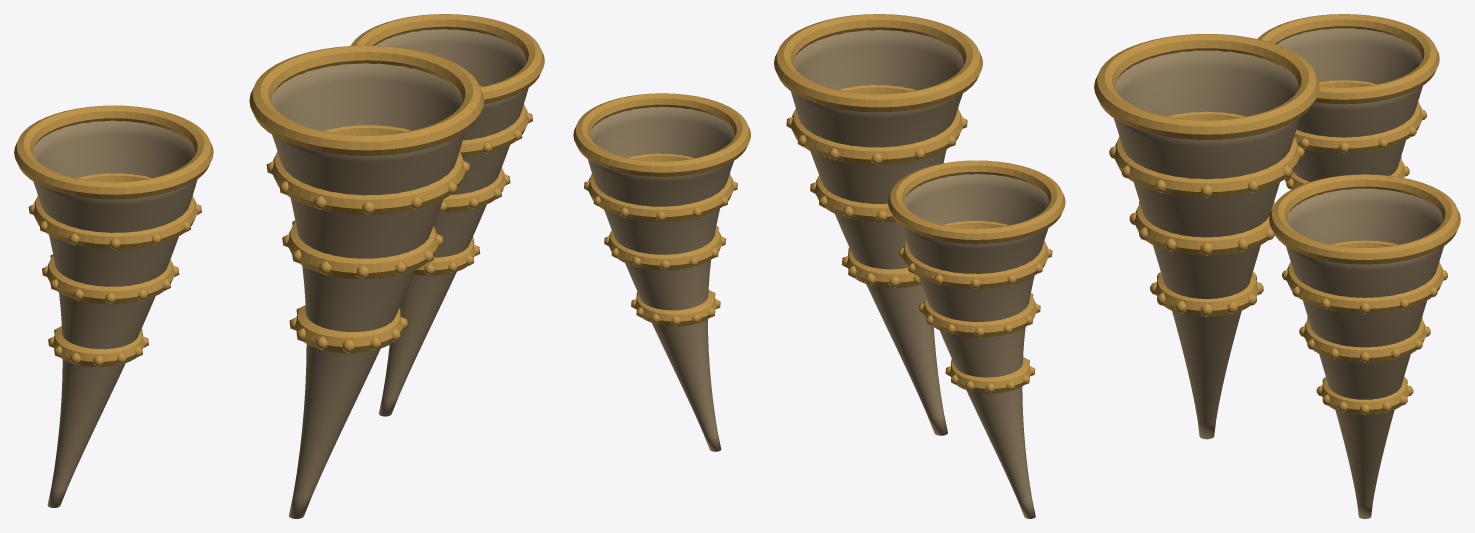
3 views of the same model, side by side, from view 1: azimuth 30°, elevation 25°; view 2: azimuth 150°, elevation 25°; view 3: azimuth 270°, elevation 25° (orthographic). The views are drawn at different scales.
Parts seen in each view (by area): view 1: TI040 / curving hollow horn shell.001, TI040 / curving hollow horn shell, TI040 / curving hollow horn shell.002, TI040 / decorative mouth rim.001, TI040 / decorative mouth rim, TI040 / decorative mouth rim.002, TI040 / gold ornamental band.005, TI040 / gold ornamental band.002, TI040 / gold ornamental band.004, TI040 / gold ornamental band.001, TI040 / gold ornamental band.003, TI040 / gold ornamental band (+3 smaller); view 2: TI040 / curving hollow horn shell.001, TI040 / curving hollow horn shell.002, TI040 / curving hollow horn shell, TI040 / decorative mouth rim.001, TI040 / decorative mouth rim, TI040 / decorative mouth rim.002, TI040 / gold ornamental band.005, TI040 / gold ornamental band.008, TI040 / gold ornamental band.002, TI040 / gold ornamental band.007, TI040 / gold ornamental band.001, TI040 / gold ornamental band.004 (+3 smaller); view 3: TI040 / curving hollow horn shell.001, TI040 / curving hollow horn shell.002, TI040 / curving hollow horn shell, TI040 / decorative mouth rim.001, TI040 / decorative mouth rim.002, TI040 / decorative mouth rim, TI040 / gold ornamental band.005, TI040 / gold ornamental band.008, TI040 / gold ornamental band.004, TI040 / gold ornamental band.002, TI040 / gold ornamental band.007, TI040 / gold ornamental band.003 (+1 smaller).
Boxes of the visible parts, x1=… form: TI040 / curving hollow horn shell.001: x1=271, y1=63, x2=464, y2=518; TI040 / curving hollow horn shell: x1=32, y1=120, x2=197, y2=507; TI040 / curving hollow horn shell.002: x1=375, y1=29, x2=528, y2=416; TI040 / decorative mouth rim.001: x1=249, y1=45, x2=484, y2=155; TI040 / decorative mouth rim: x1=14, y1=105, x2=213, y2=199; TI040 / decorative mouth rim.002: x1=350, y1=14, x2=544, y2=104; TI040 / gold ornamental band.005: x1=271, y1=125, x2=465, y2=215; TI040 / gold ornamental band.002: x1=33, y1=173, x2=197, y2=249; TI040 / gold ornamental band.004: x1=287, y1=222, x2=438, y2=279; TI040 / gold ornamental band.001: x1=46, y1=256, x2=174, y2=304; TI040 / gold ornamental band.003: x1=294, y1=305, x2=402, y2=353; TI040 / gold ornamental band: x1=52, y1=326, x2=144, y2=367; TI040 / curving hollow horn shell.001: x1=791, y1=30, x2=963, y2=435; TI040 / curving hollow horn shell.002: x1=588, y1=106, x2=734, y2=451; TI040 / curving hollow horn shell: x1=902, y1=174, x2=1048, y2=518; TI040 / decorative mouth rim.001: x1=774, y1=14, x2=982, y2=112; TI040 / decorative mouth rim: x1=888, y1=160, x2=1065, y2=244; TI040 / decorative mouth rim.002: x1=573, y1=93, x2=750, y2=176; TI040 / gold ornamental band.005: x1=790, y1=85, x2=963, y2=165; TI040 / gold ornamental band.008: x1=587, y1=153, x2=734, y2=221; TI040 / gold ornamental band.002: x1=902, y1=221, x2=1048, y2=288; TI040 / gold ornamental band.007: x1=608, y1=227, x2=722, y2=270; TI040 / gold ornamental band.001: x1=922, y1=294, x2=1036, y2=337; TI040 / gold ornamental band.004: x1=814, y1=175, x2=896, y2=222; TI040 / curving hollow horn shell.001: x1=1114, y1=50, x2=1299, y2=439; TI040 / curving hollow horn shell.002: x1=1286, y1=188, x2=1443, y2=518; TI040 / curving hollow horn shell: x1=1277, y1=28, x2=1422, y2=181; TI040 / decorative mouth rim.001: x1=1094, y1=34, x2=1319, y2=139; TI040 / decorative mouth rim.002: x1=1269, y1=174, x2=1460, y2=264; TI040 / decorative mouth rim: x1=1257, y1=14, x2=1439, y2=104; TI040 / gold ornamental band.005: x1=1114, y1=111, x2=1299, y2=198; TI040 / gold ornamental band.008: x1=1286, y1=240, x2=1443, y2=313; TI040 / gold ornamental band.004: x1=1134, y1=203, x2=1274, y2=255; TI040 / gold ornamental band.002: x1=1294, y1=80, x2=1422, y2=153; TI040 / gold ornamental band.007: x1=1303, y1=318, x2=1426, y2=362; TI040 / gold ornamental band.003: x1=1154, y1=274, x2=1258, y2=316.
Bounding box in the file's own units: 2.71 × 2.06 × 1.74.
